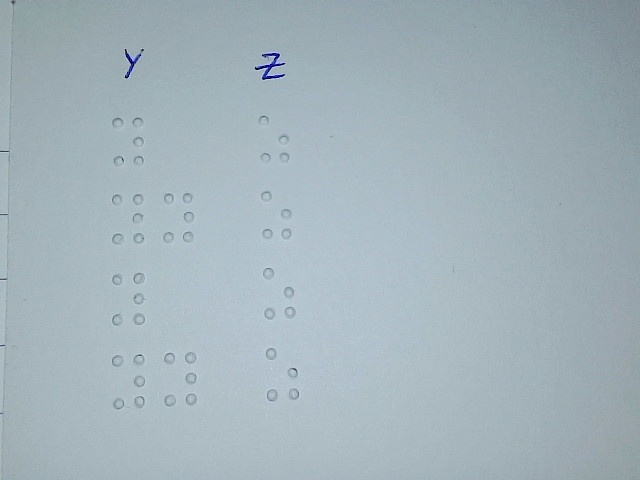Y: (162, 350, 199, 406), (111, 270, 145, 325), (110, 115, 145, 168), (161, 191, 196, 244)
Z: (265, 345, 300, 401), (262, 265, 295, 322), (257, 113, 291, 164), (260, 188, 294, 239)
